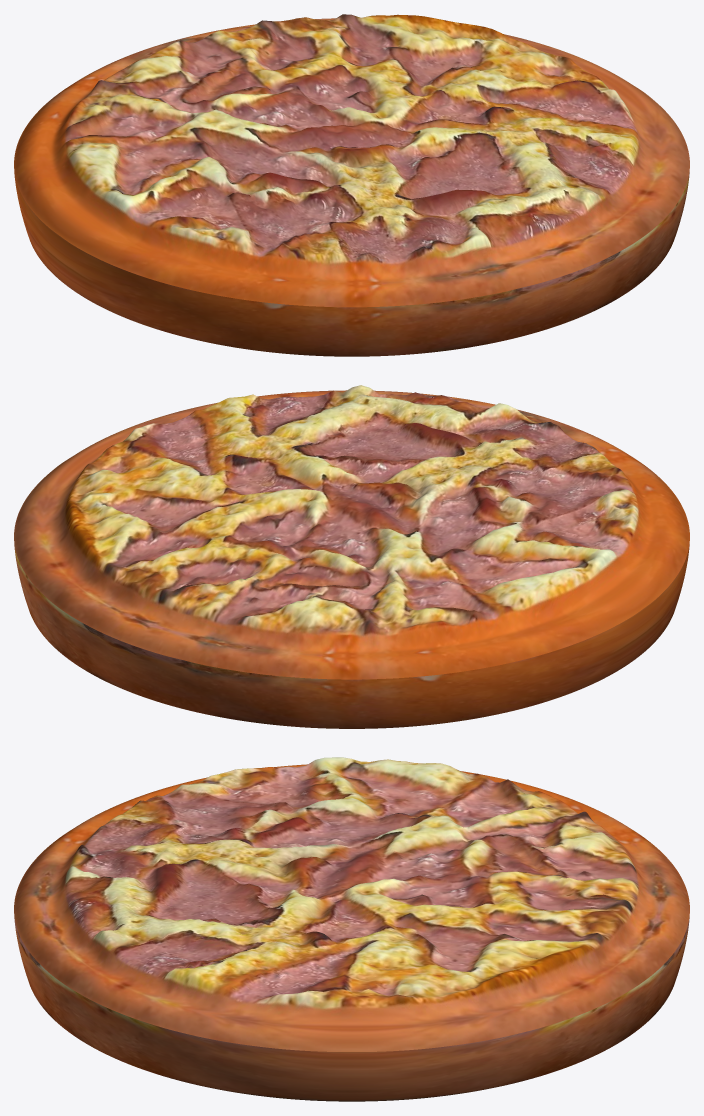
The model's file is jamoneitor.glb.
The picture shows the model from 3 angles, top to bottom: view 1: azimuth 30°, elevation 25°; view 2: azimuth 150°, elevation 25°; view 3: azimuth 270°, elevation 25°; orthographic projection.
Visible parts, largest first — view 1: Jamoneitor; view 2: Jamoneitor; view 3: Jamoneitor.
Part boxes in pixels (bbox=[...]): Jamoneitor: bbox=[14, 14, 689, 356]; Jamoneitor: bbox=[14, 385, 689, 728]; Jamoneitor: bbox=[14, 757, 689, 1101].
Bounding box in the file's own units: 0.36 × 0.0548 × 0.36.
2 materials, 2 textured.
